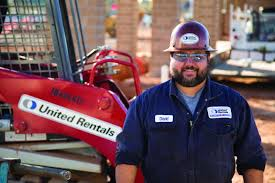Person_wearing_helmet: (158, 17, 219, 60)
